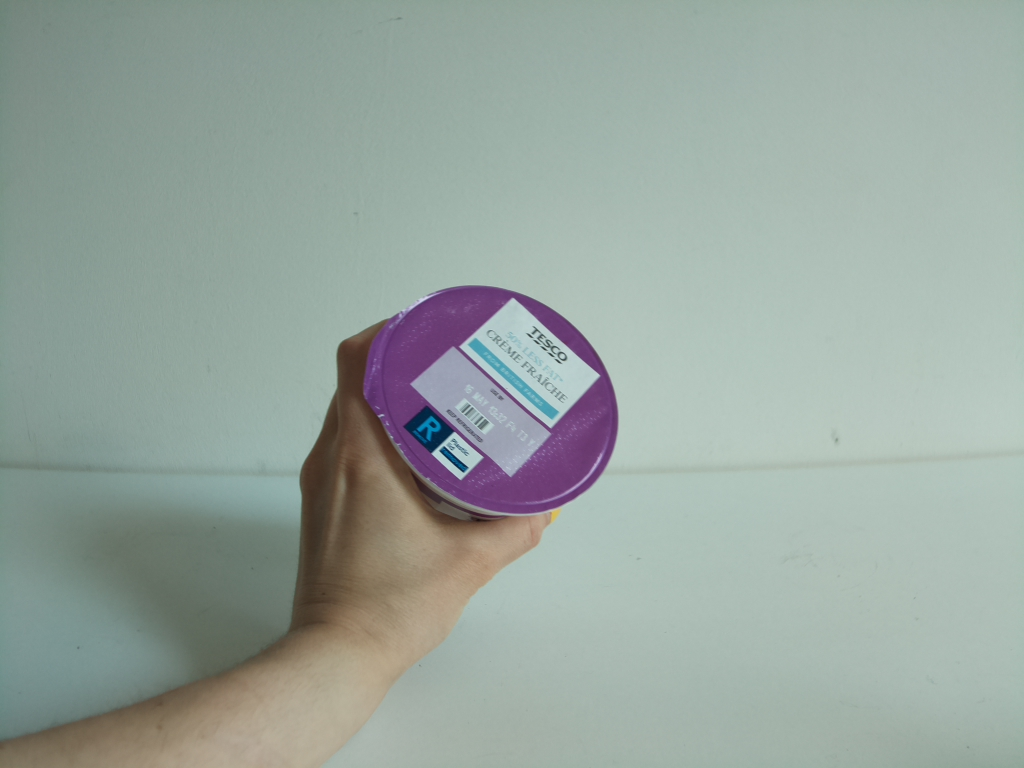cream: (359, 287, 629, 514)
